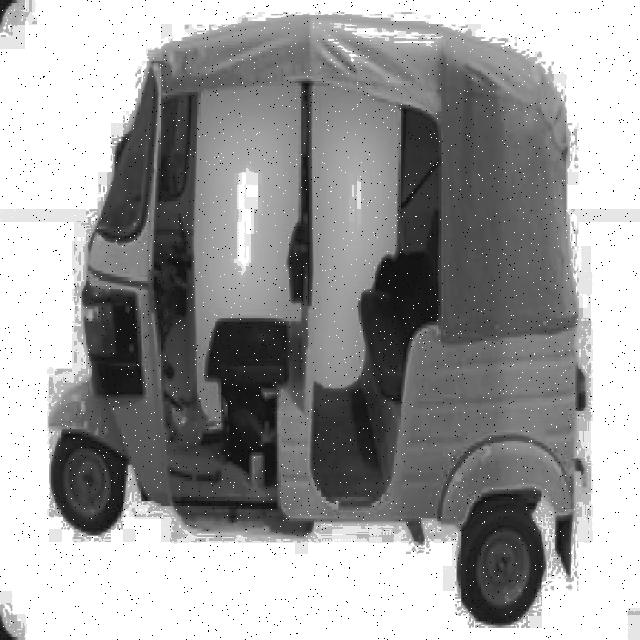Auto-Rickshaw: (41, 16, 592, 636)
